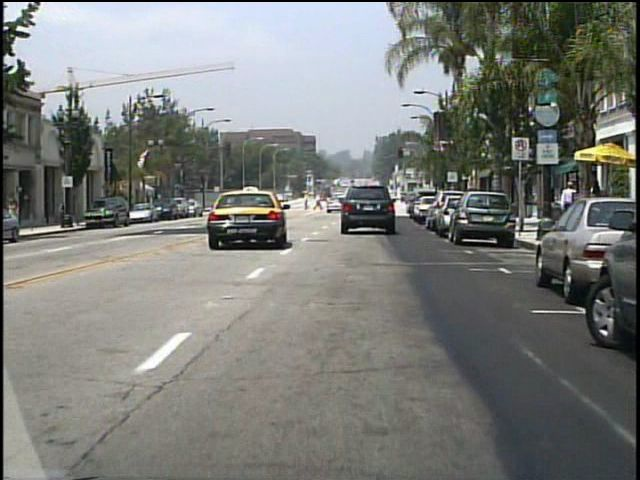person: (557, 179, 577, 221), (311, 193, 322, 212), (301, 192, 311, 212)
